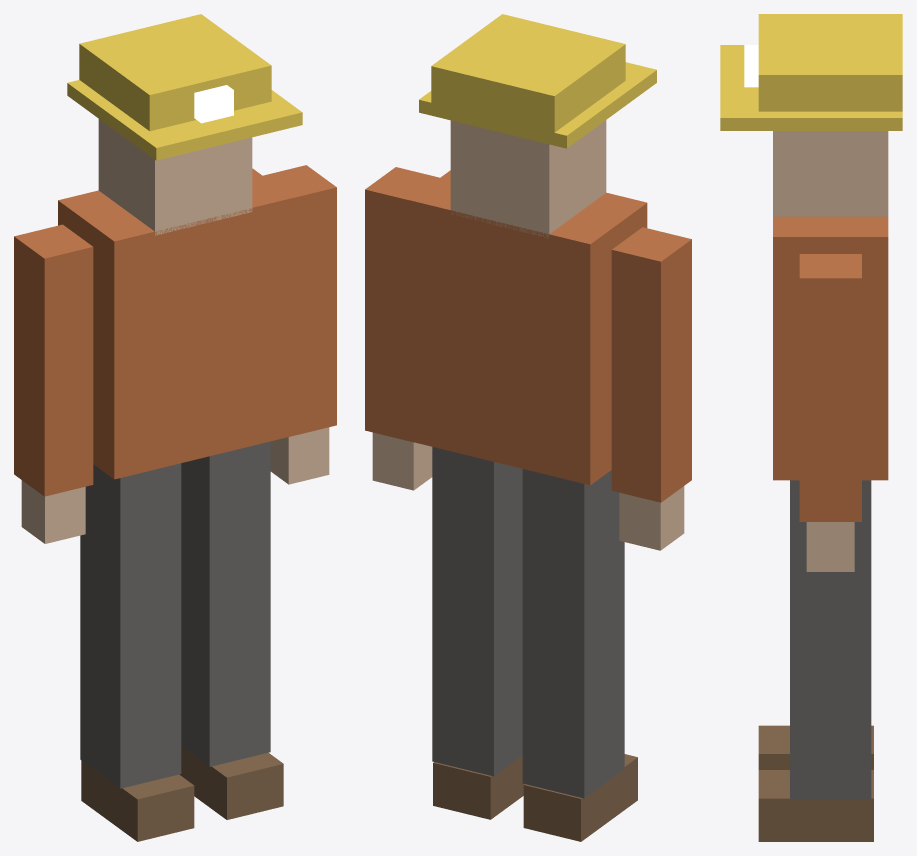
The model's file is minero.glb.
3 views of the same model, side by side, from view 1: azimuth 30°, elevation 25°; view 2: azimuth 150°, elevation 25°; view 3: azimuth 270°, elevation 25° (orthographic). The views are drawn at different scales.
Parts seen in each view (by area): view 1: minero; view 2: minero; view 3: minero.
Boxes of the visible parts, x1=… form: minero: x1=14, y1=14, x2=336, y2=841; minero: x1=365, y1=14, x2=691, y2=841; minero: x1=720, y1=14, x2=902, y2=841.
Size of the model in its own units: 0.72 by 1.75 by 0.38.
